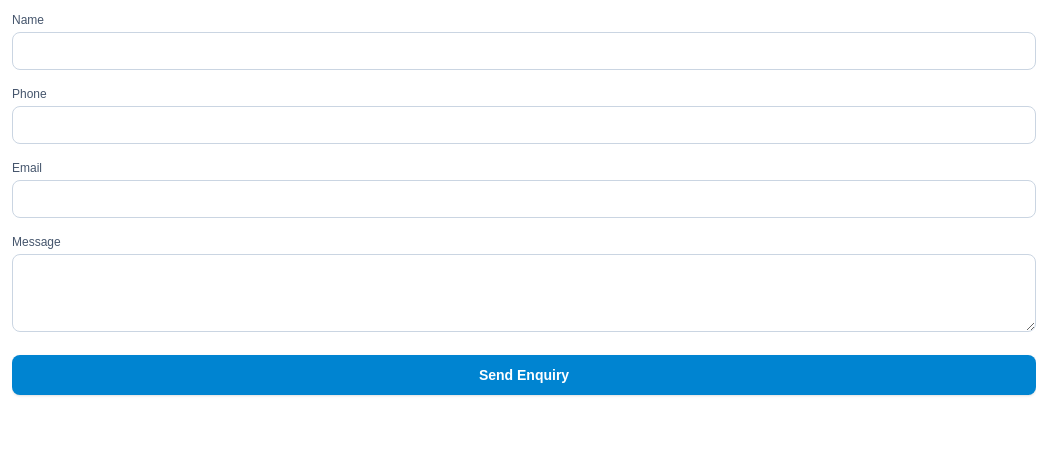
EnquiryForm › shows a generic fallback message when the failure is not an Error instance
The image size is (1048, 467).
In the field below "Name": coordinates (524, 51) [12, 32, 1036, 70], type "Jane Doe"
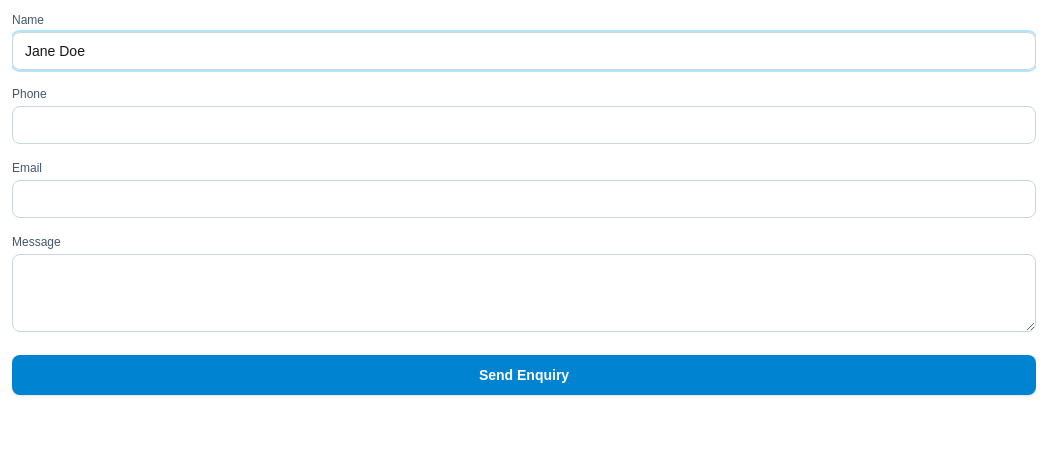
In the field below "Phone": coordinates (524, 125) [12, 106, 1036, 144], type "9845059388"
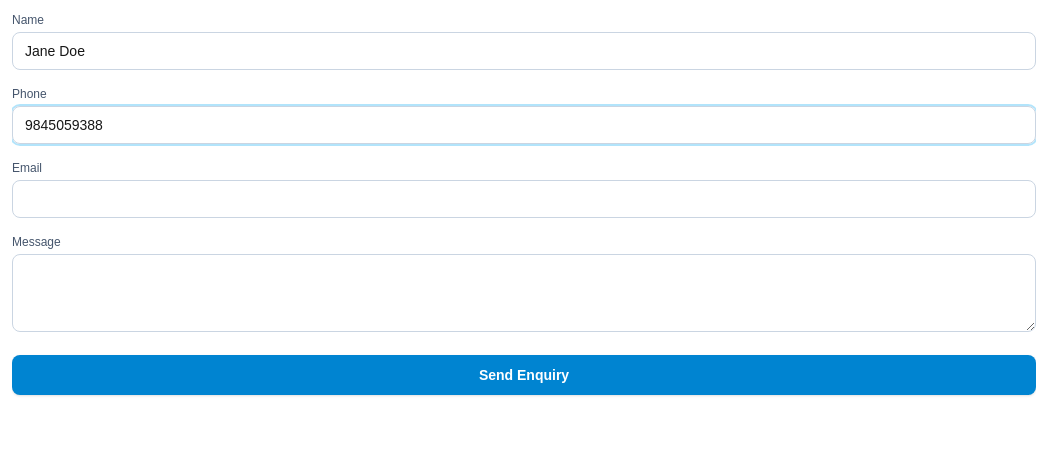
Click the button "Send Enquiry": coordinates (524, 375) [12, 355, 1036, 395]
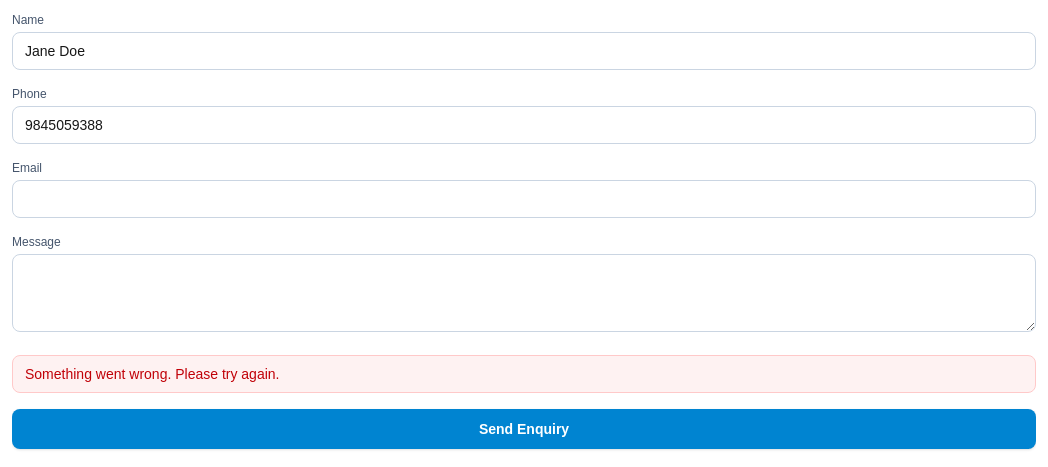
Expected: the text "Something went wrong. Please try again." is shown, [12, 355, 1036, 393]
